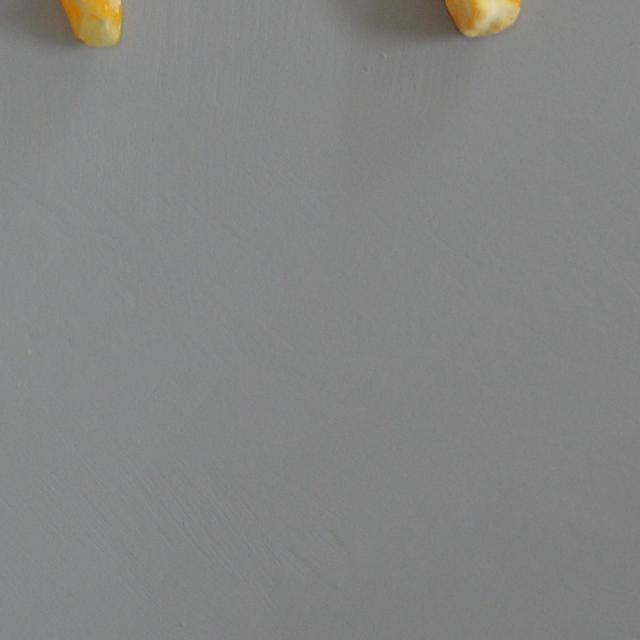dañado: (28, 0, 134, 58), (418, 0, 522, 42)
